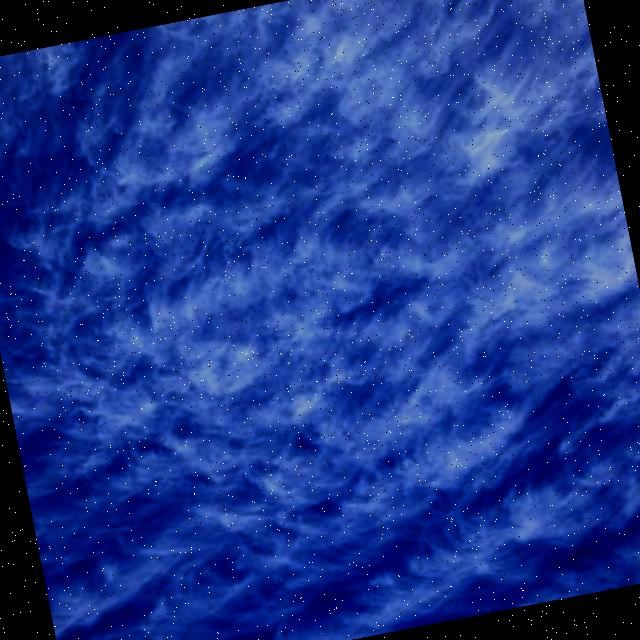Cc: (1, 21, 640, 489)
